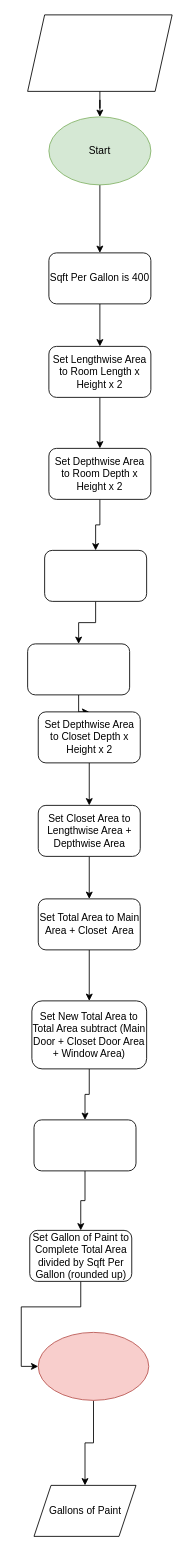
This 187x1551 diagram has some shape labels left out. The box of each missing label's shape, as (x1, y1, x2, y2) in pixels:
End: (37, 1332, 149, 1400)
Height, Room Length, Room Depth, Closet Length, Closet Depth: (27, 14, 172, 91)
Set Complete Total Area to New Total Area x 2: (33, 1119, 136, 1171)
Set Lengthwise Area to Closet Length x Height x 2: (27, 643, 130, 695)
Set Main Area to Length Area + Depthwise Area: (44, 550, 147, 601)
